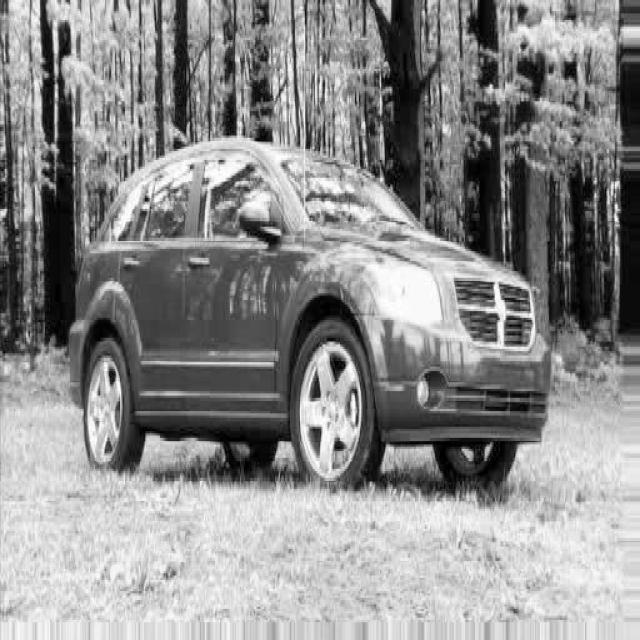car: (66, 133, 552, 491)
